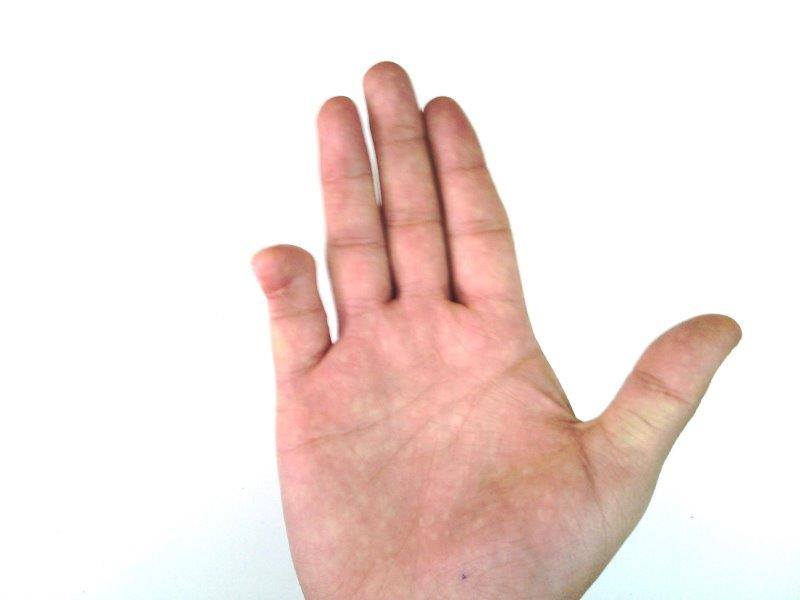hand: (254, 59, 741, 600)
